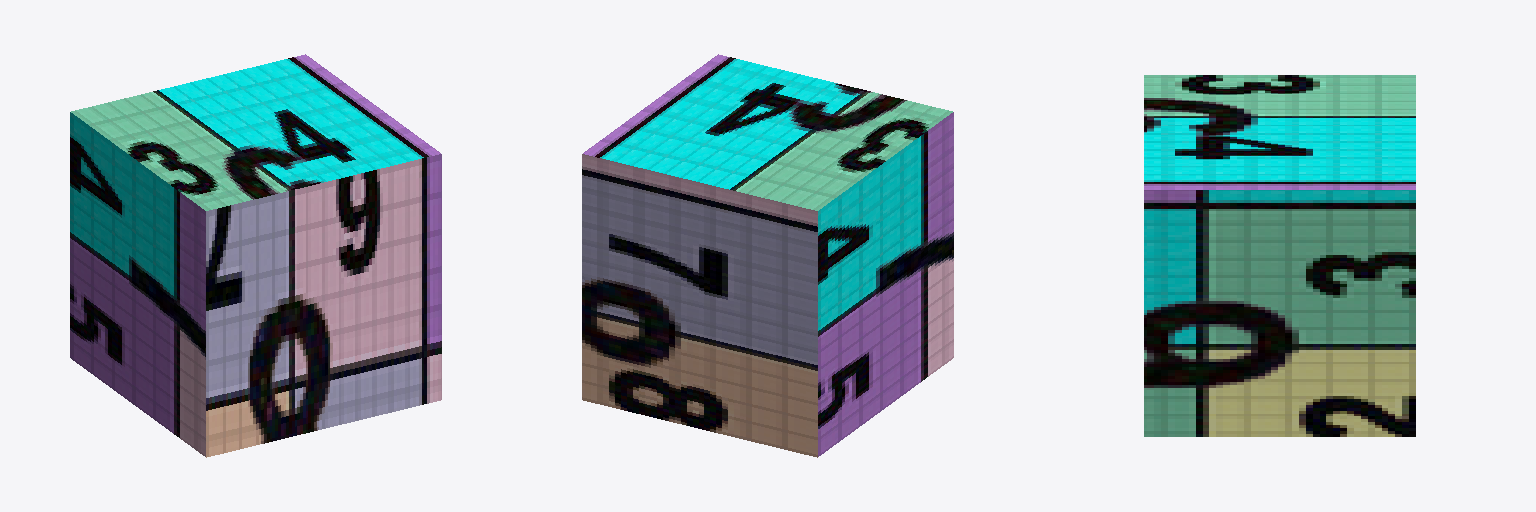
3 views of the same model, side by side, from view 1: azimuth 30°, elevation 25°; view 2: azimuth 150°, elevation 25°; view 3: azimuth 270°, elevation 25° (orthographic).
Parts seen in each view (by area): view 1: Cube.002; view 2: Cube.002; view 3: Cube.002.
Part boxes in pixels (left/top/right/bottom): Cube.002: left=70, top=54, right=441, bottom=457; Cube.002: left=582, top=54, right=953, bottom=457; Cube.002: left=1144, top=75, right=1415, bottom=436.
Size of the model in its own units: 2 by 2 by 2.
Materials: 1 (1 with a texture image).